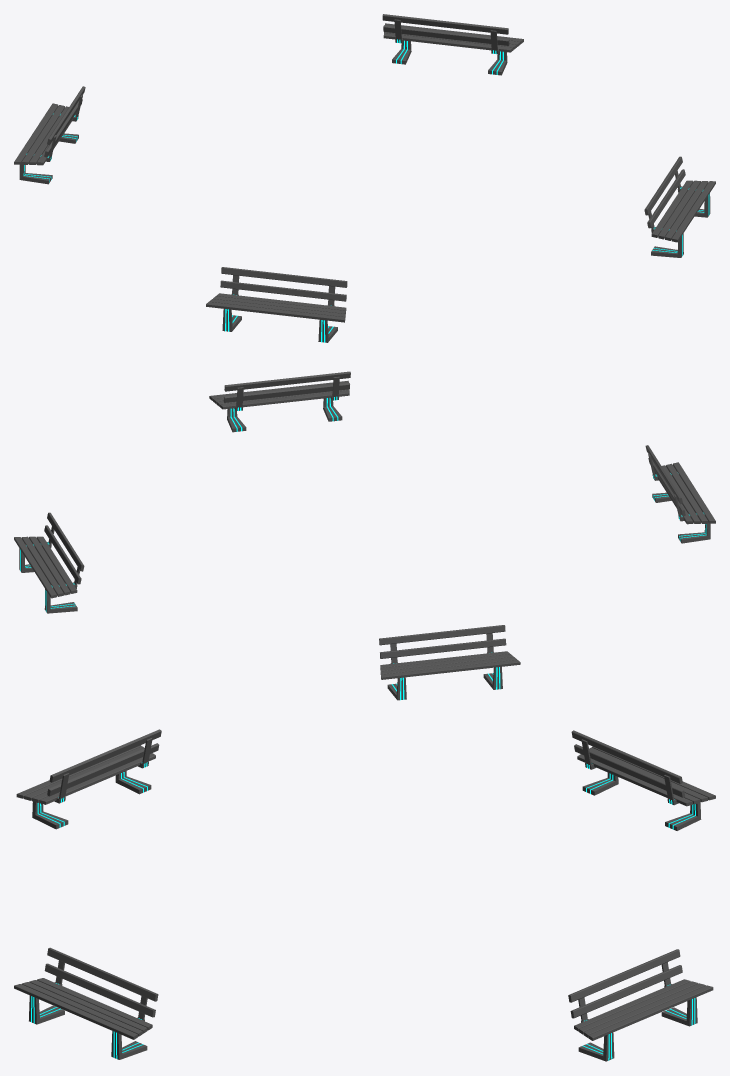
Rendered from CrossingBenches_Large.fbx.
3 renders of one model, top to bottom at view 1: azimuth 30°, elevation 25°; view 2: azimuth 150°, elevation 25°; view 3: azimuth 270°, elevation 25°, orthographic. The views are drawn at different scales.
Visible parts, largest first — view 1: polySurface30, polySurface7, polySurface20, polySurface40; view 2: polySurface40, polySurface20, polySurface7, polySurface30; view 3: polySurface7, polySurface20, polySurface30, polySurface40.
Boxes of the visible parts, <box> form: polySurface30: <box>206,267,347,342</box>; polySurface7: <box>382,14,523,75</box>; polySurface20: <box>644,156,715,257</box>; polySurface40: <box>14,86,85,184</box>; polySurface40: <box>379,625,520,700</box>; polySurface20: <box>209,371,350,432</box>; polySurface7: <box>14,512,84,613</box>; polySurface30: <box>645,445,715,543</box>; polySurface7: <box>568,949,713,1061</box>; polySurface20: <box>14,947,158,1059</box>; polySurface30: <box>16,729,161,829</box>; polySurface40: <box>571,730,715,830</box>.
Bounding box in the file's own units: 3703 × 340 × 3723.
